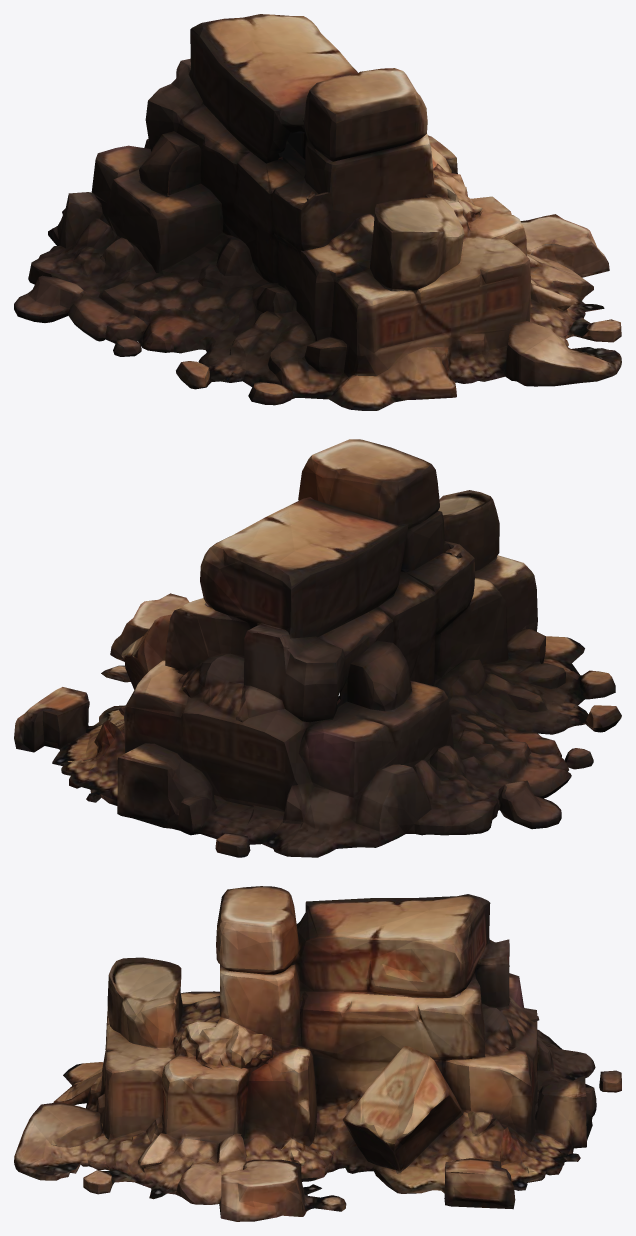
The model's file is rubble.glb.
3 views of the same model, one above another, from view 1: azimuth 30°, elevation 25°; view 2: azimuth 150°, elevation 25°; view 3: azimuth 270°, elevation 25° (orthographic). The views are drawn at different scales.
Visible parts, largest first — view 1: world; view 2: world; view 3: world.
Boxes of the visible parts, x1,y1,x2,y2 form: world: [14, 14, 621, 410]; world: [14, 439, 621, 857]; world: [14, 886, 621, 1221].
Size of the model in its own units: 0.8848 by 0.3865 by 0.9997.
Materials: 1 (1 with a texture image).
